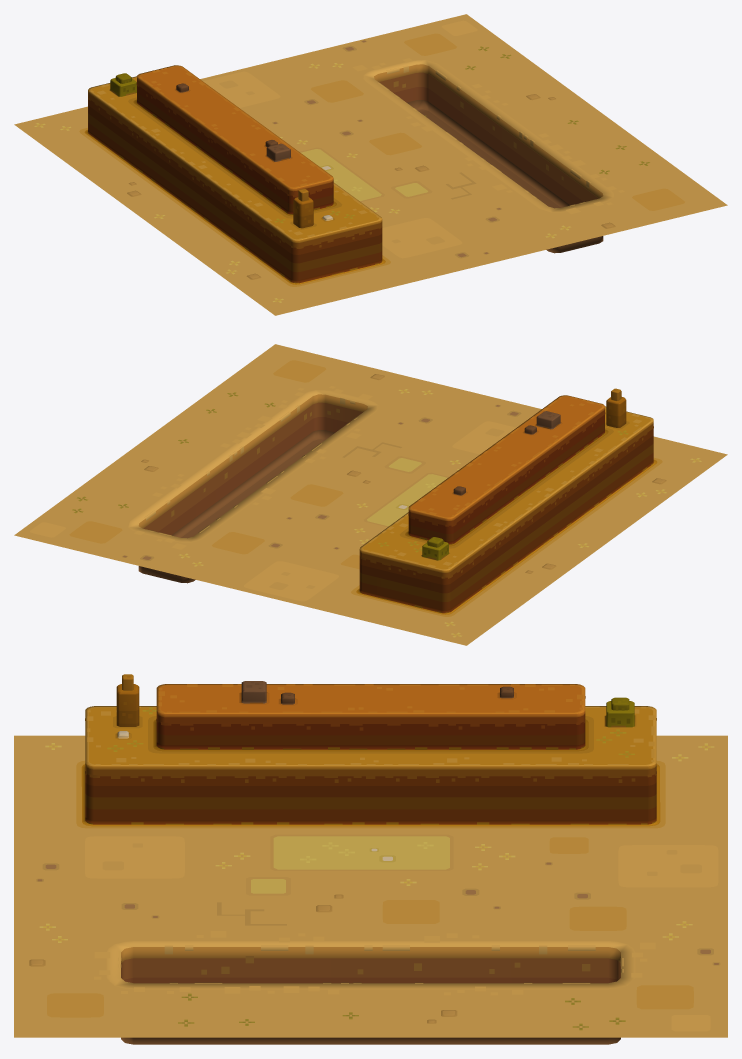
Rendered from C_mountain1_03.fbx.
The picture shows the model from 3 angles, top to bottom: view 1: azimuth 30°, elevation 25°; view 2: azimuth 150°, elevation 25°; view 3: azimuth 270°, elevation 25°; orthographic projection. The views are drawn at different scales.
Parts seen in each view (by area): view 1: C_mountain1_03; view 2: C_mountain1_03; view 3: C_mountain1_03.
Boxes of the visible parts, left/top/right/bottom form: C_mountain1_03: left=14, top=14, right=727, bottom=315; C_mountain1_03: left=14, top=344, right=727, bottom=645; C_mountain1_03: left=14, top=674, right=727, bottom=1044.
Size of the model in its own units: 50 by 13.34 by 50.
